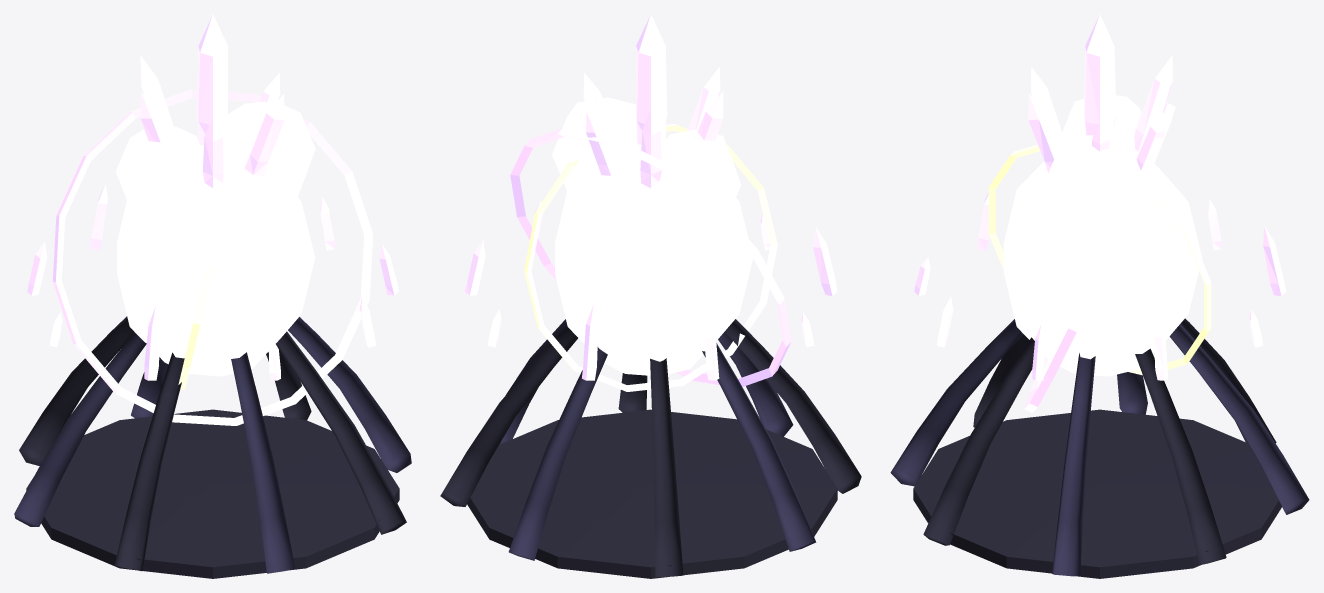
File: lumen_heart.glb
The picture shows the model from 3 angles, left to right: view 1: azimuth 30°, elevation 25°; view 2: azimuth 150°, elevation 25°; view 3: azimuth 270°, elevation 25°; orthographic projection.
Parts seen in each view (by area): view 1: enemy.lumen_heart; view 2: enemy.lumen_heart; view 3: enemy.lumen_heart.
Boxes of the visible parts, <box> form: enemy.lumen_heart: <box>14,14,411,578</box>; enemy.lumen_heart: <box>440,14,861,578</box>; enemy.lumen_heart: <box>890,14,1309,578</box>.
Bounding box in the file's own units: 3.47 × 4.5 × 3.47.
